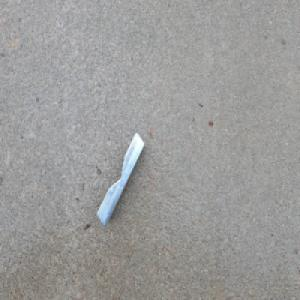ClampPart: (95, 130, 144, 227)
